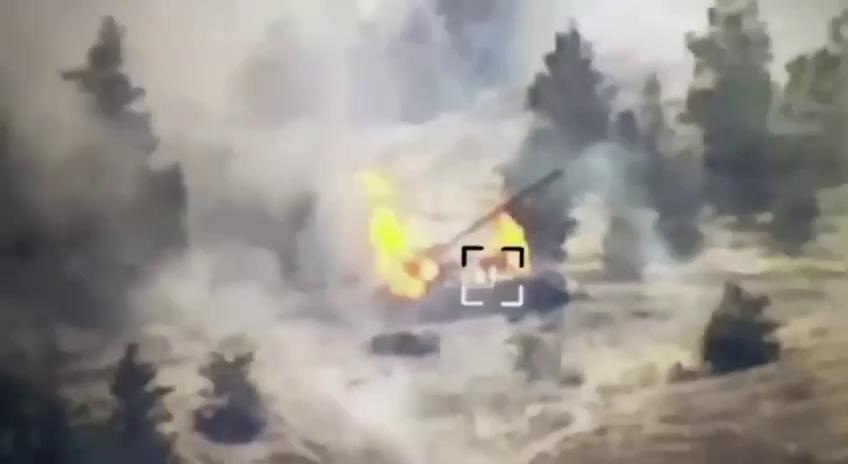tank: (378, 169, 580, 325)
